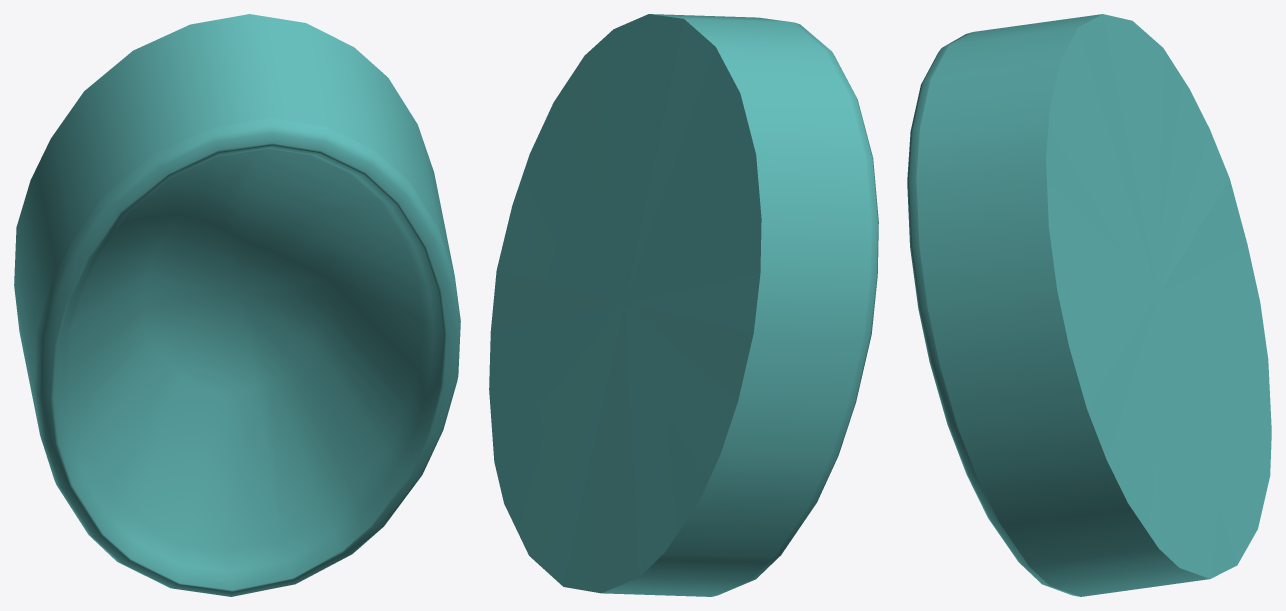
Rendered from BL2_8shapes_Oval_Classic_Metal.001.glb.
The picture shows the model from 3 angles, left to right: view 1: azimuth 30°, elevation 25°; view 2: azimuth 150°, elevation 25°; view 3: azimuth 270°, elevation 25°; orthographic projection. The views are drawn at different scales.
Parts seen in each view (by area): view 1: BL2_8shapes_Oval_Classic_Metal.001; view 2: BL2_8shapes_Oval_Classic_Metal.001; view 3: BL2_8shapes_Oval_Classic_Metal.001.
Part boxes in pixels (x1=…): BL2_8shapes_Oval_Classic_Metal.001: x1=14, y1=14, x2=460, y2=596; BL2_8shapes_Oval_Classic_Metal.001: x1=489, y1=14, x2=878, y2=596; BL2_8shapes_Oval_Classic_Metal.001: x1=907, y1=14, x2=1271, y2=596.
Bounding box in the file's own units: 0.4384 × 0.6247 × 0.3694.
